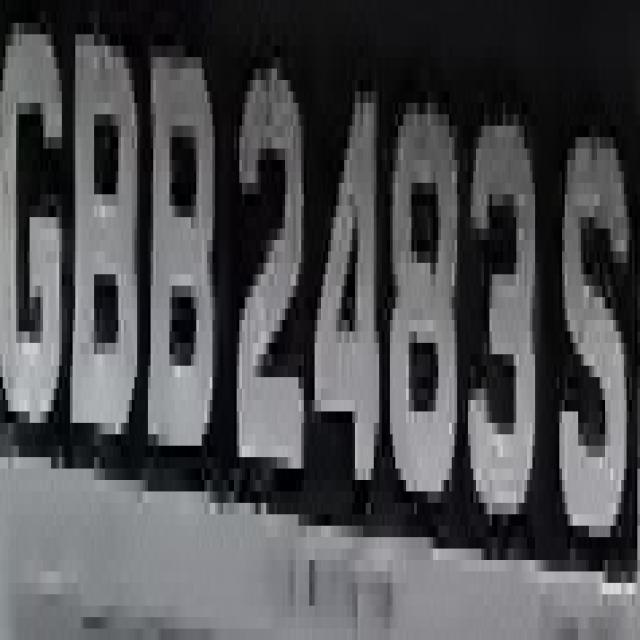2: (231, 23, 320, 514)
3: (457, 80, 541, 560)
4: (301, 91, 387, 526)
8: (382, 46, 462, 503)
B: (134, 34, 218, 503), (65, 11, 145, 446)
G: (3, 23, 62, 446)
S: (554, 103, 635, 594)
